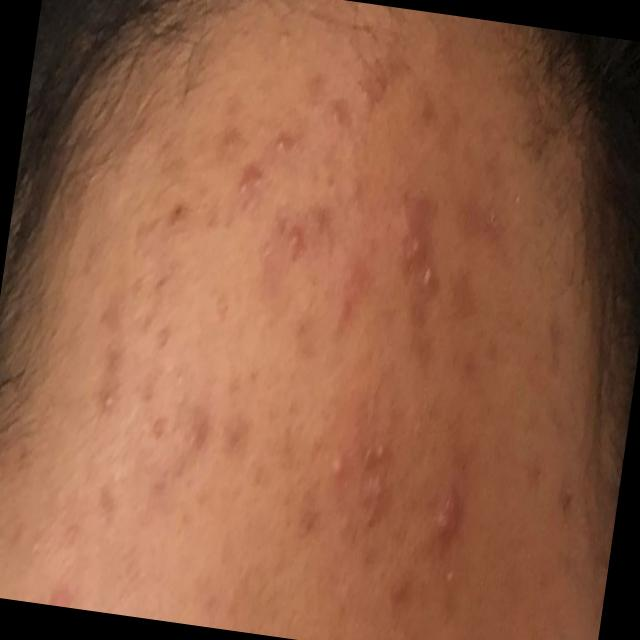fungal: (56, 37, 528, 633)
